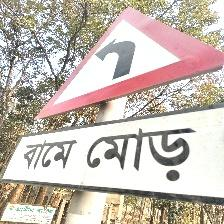Left-Turn: (3, 6, 223, 214)
